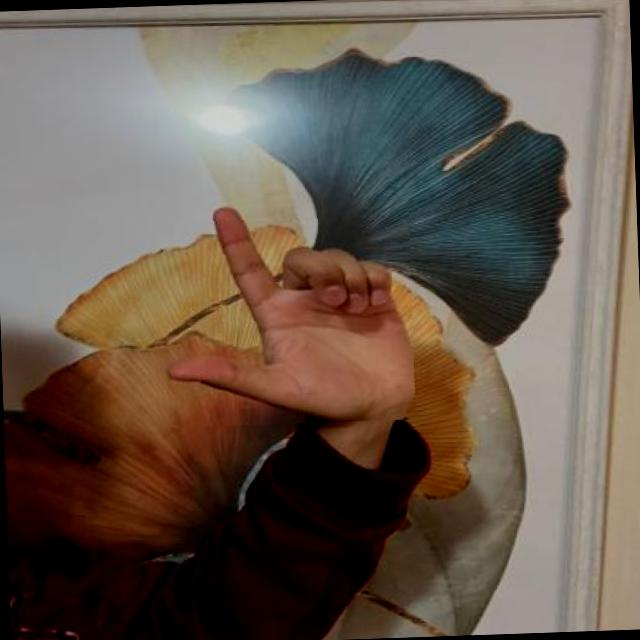L: (147, 196, 416, 428)
